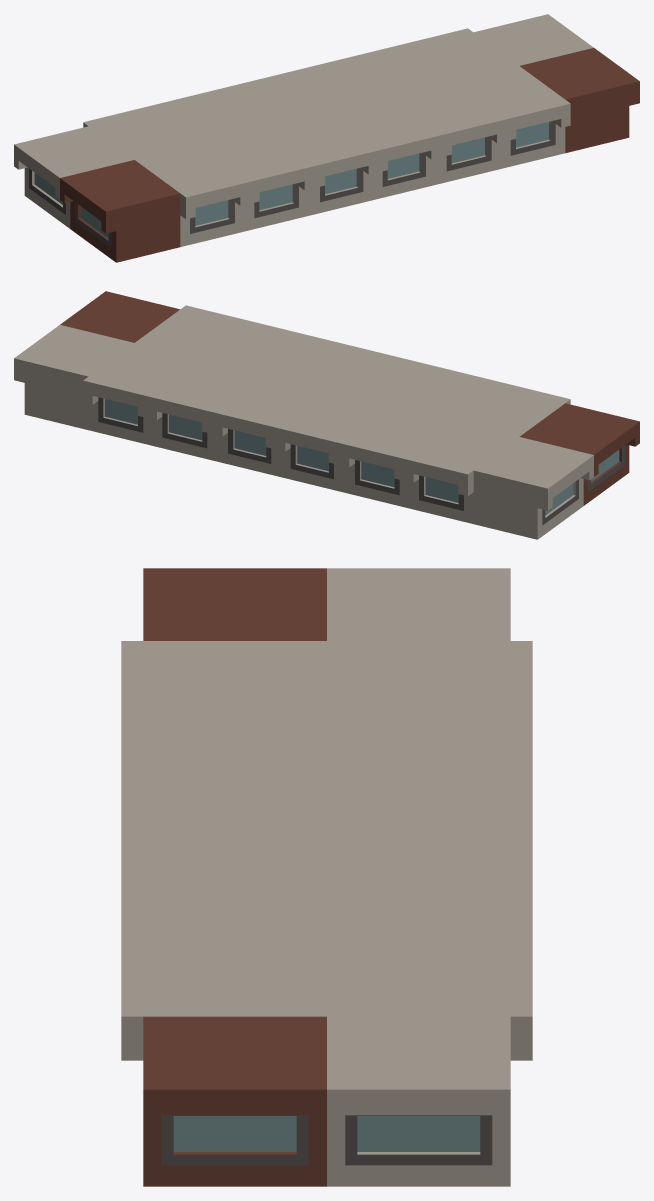
Rendered from SAL_Mid.fbx.
The picture shows the model from 3 angles, top to bottom: view 1: azimuth 30°, elevation 25°; view 2: azimuth 150°, elevation 25°; view 3: azimuth 270°, elevation 25°; orthographic projection. The views are drawn at different scales.
Visible parts, largest first — view 1: SAL_Mid; view 2: SAL_Mid; view 3: SAL_Mid.
Part boxes in pixels (<box>): SAL_Mid: <box>14,14,639,262</box>; SAL_Mid: <box>14,291,639,539</box>; SAL_Mid: <box>121,568,532,1186</box>.
Bounding box in the file's own units: 5205 × 500 × 1735.
